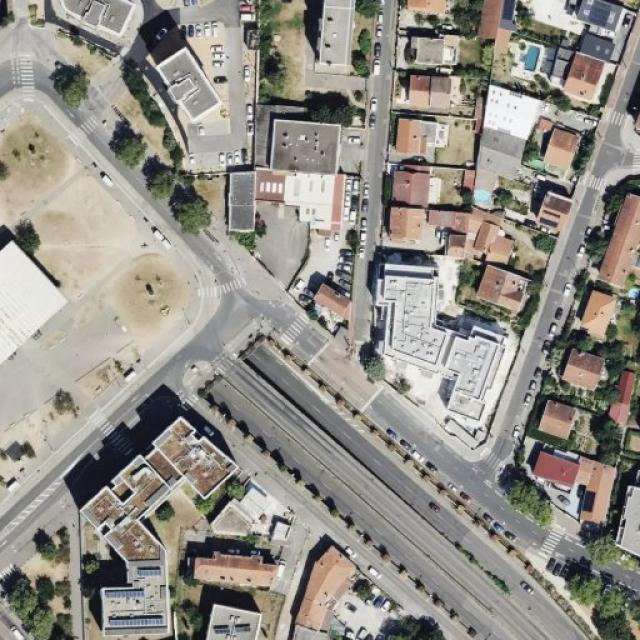ferme: (0, 206, 113, 391)
immeuble: (372, 268, 499, 438), (73, 459, 182, 558), (77, 554, 173, 632), (255, 104, 345, 177), (154, 416, 231, 499), (298, 542, 361, 628), (260, 168, 350, 228), (593, 190, 640, 284), (162, 40, 222, 111), (220, 484, 290, 532), (317, 0, 362, 68), (187, 550, 278, 582), (204, 591, 262, 640), (60, 0, 132, 33), (228, 174, 255, 238), (538, 189, 572, 229), (411, 34, 450, 66)
maison: (530, 442, 614, 518), (565, 0, 618, 58), (553, 49, 612, 101), (529, 120, 579, 173), (432, 200, 476, 254), (486, 266, 532, 315), (563, 348, 607, 388), (609, 358, 633, 424), (396, 119, 432, 161), (392, 169, 431, 206), (480, 218, 512, 262), (409, 76, 448, 112), (580, 294, 613, 336), (316, 287, 352, 322), (540, 401, 575, 437), (390, 209, 428, 239)
piscine: (514, 42, 546, 72), (470, 188, 497, 210), (625, 284, 640, 307)
